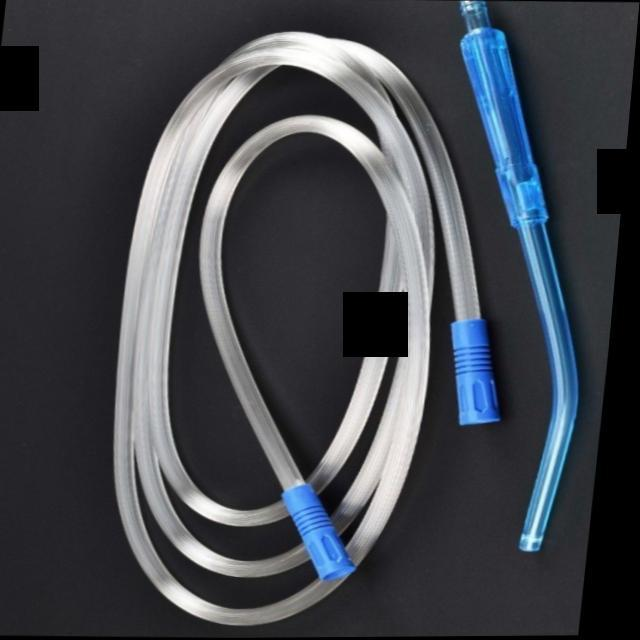Suction Tube Nozzle: (88, 0, 630, 636)
